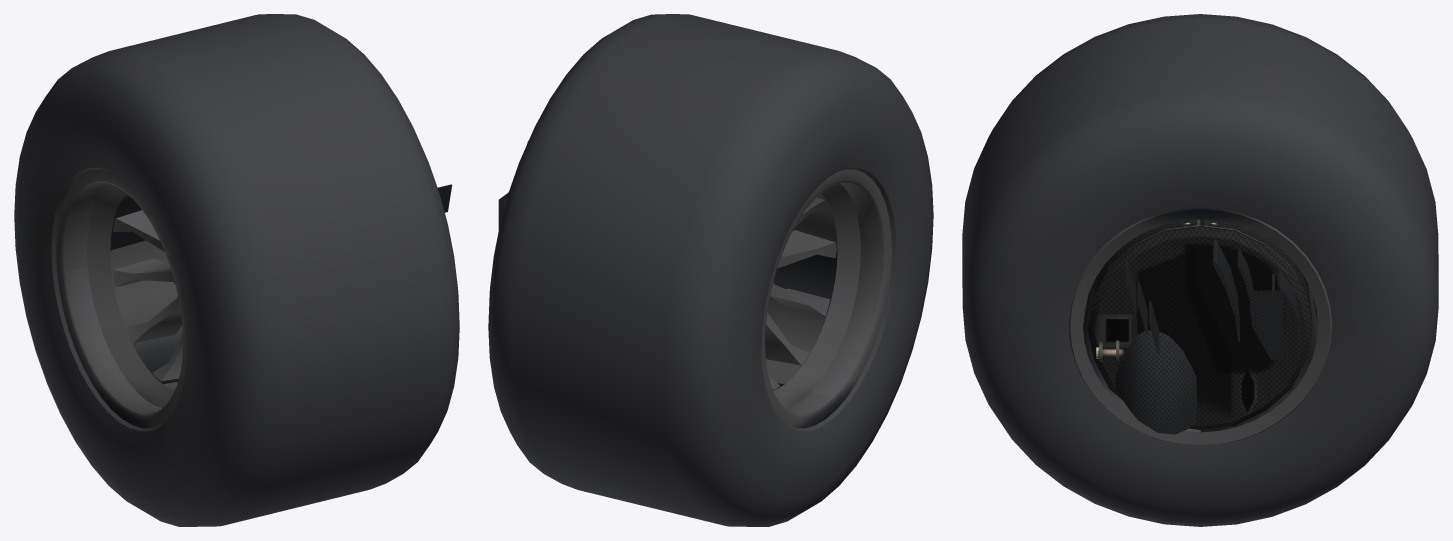
File: front_left.dae
The picture shows the model from 3 angles, left to right: view 1: azimuth 30°, elevation 25°; view 2: azimuth 150°, elevation 25°; view 3: azimuth 270°, elevation 25°; orthographic projection. The views are drawn at different scales.
Visible parts, largest first — view 1: object__50, object__49, object__18; view 2: object__50, object__49, object__18; view 3: object__49, object__50, object__28, object__18.
Boxes of the visible parts, x1,y1,x2,y2 form: object__50: (38,14,459,526); object__49: (14,79,458,516); object__18: (56,169,186,428); object__50: (488,14,911,526); object__49: (489,79,933,516); object__18: (761,169,891,428); object__49: (979,122,1421,522); object__50: (962,14,1438,526); object__28: (1087,219,1313,434); object__18: (1069,207,1332,445).
Bounding box in the file's own units: 4.53 × 6.4 × 6.4.
4 materials, 4 textured.
